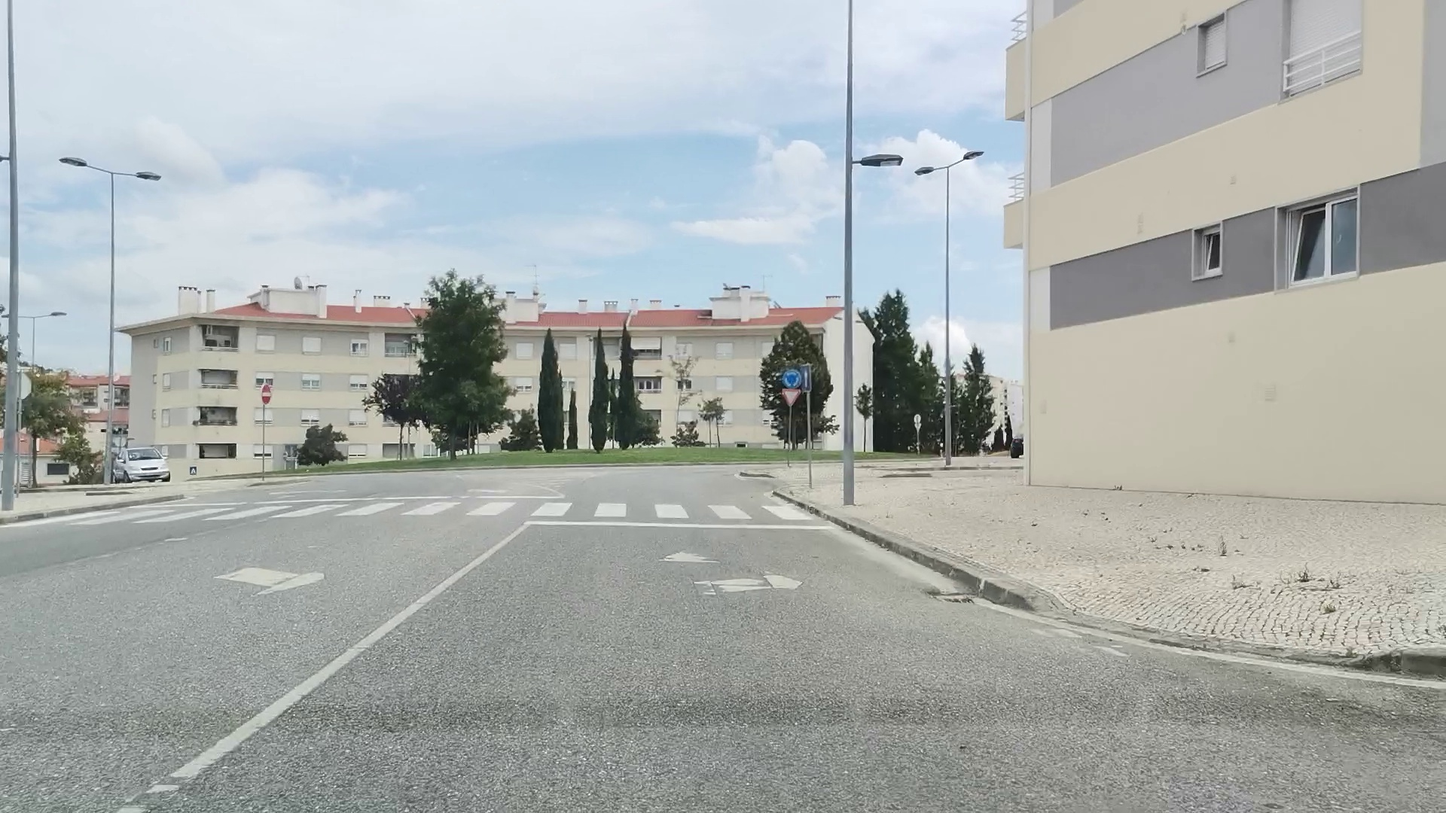Stairs: (74, 497, 822, 522)
